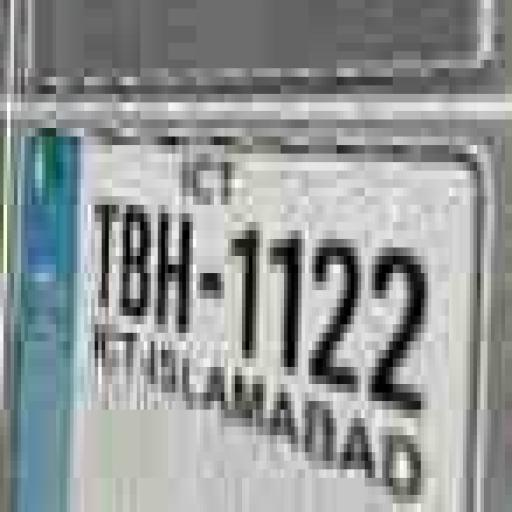1: (267, 221, 306, 373), (230, 222, 262, 360)
2: (368, 241, 424, 418), (310, 224, 359, 389)
B: (123, 202, 150, 315)
H: (156, 204, 195, 340)
T: (92, 200, 121, 314)
